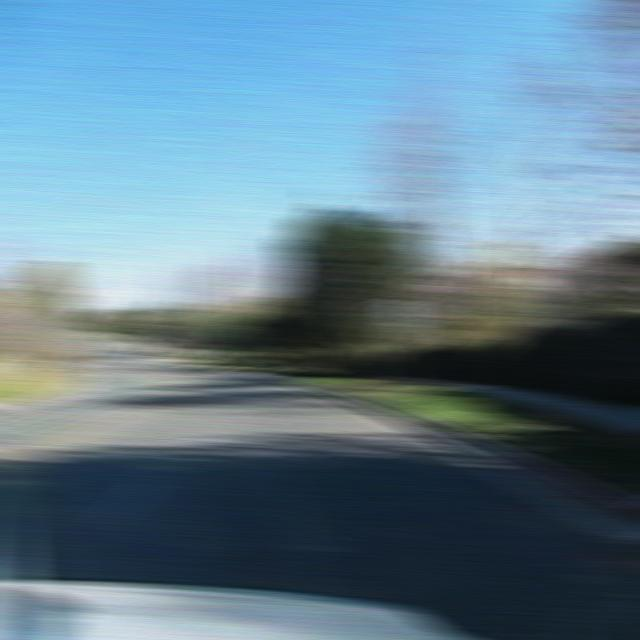speedLimit40: (385, 298, 421, 330)
